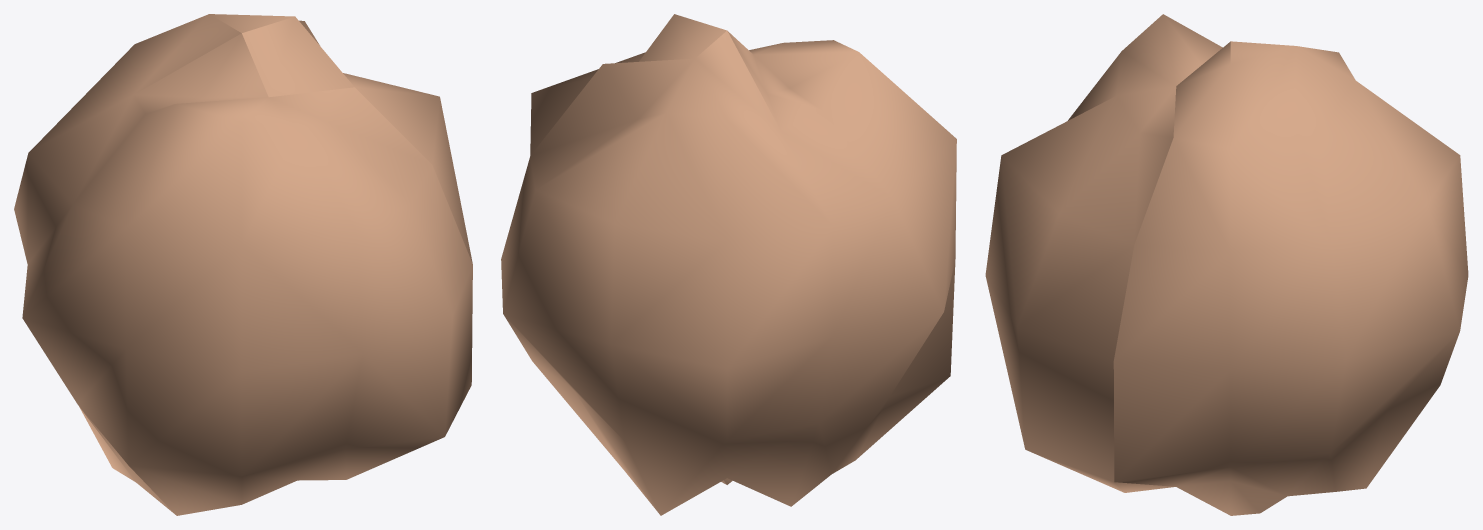
Rendered from rock_004.fbx.
3 views of the same model, side by side, from view 1: azimuth 30°, elevation 25°; view 2: azimuth 150°, elevation 25°; view 3: azimuth 270°, elevation 25° (orthographic). The views are drawn at different scales.
Visible parts, largest first — view 1: Rock4; view 2: Rock4; view 3: Rock4.
Part boxes in pixels (box(x1,y1,x2,y2)): Rock4: box(14, 14, 472, 515); Rock4: box(501, 14, 956, 515); Rock4: box(985, 14, 1468, 515).
Size of the model in its own units: 3.01 by 3.2 by 2.99.
